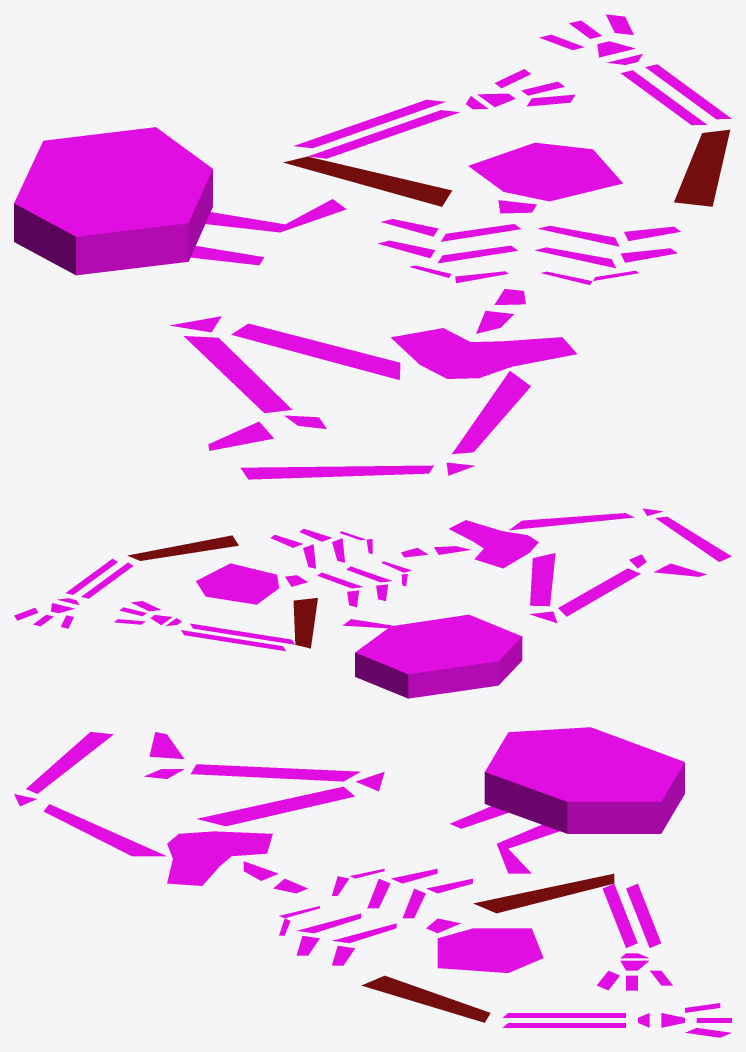
Rendered from skeletonwithbag.obj.
3 views of the same model, one above another, from view 1: azimuth 30°, elevation 25°; view 2: azimuth 150°, elevation 25°; view 3: azimuth 270°, elevation 25° (orthographic). The views are drawn at different scales.
Parts seen in each view (by area): view 1: skeletonwithbag_back; view 2: skeletonwithbag_back; view 3: skeletonwithbag_back.
Part boxes in pixels (<box>): skeletonwithbag_back: <box>14,14,731,479</box>; skeletonwithbag_back: <box>14,508,731,698</box>; skeletonwithbag_back: <box>14,727,731,1037</box>.
Size of the model in its own units: 1.23 by 0.06 by 1.22.
